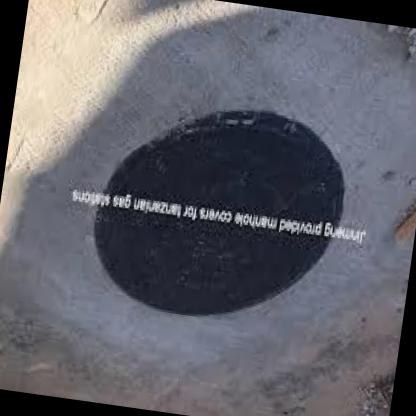manholes: (34, 63, 384, 360)
